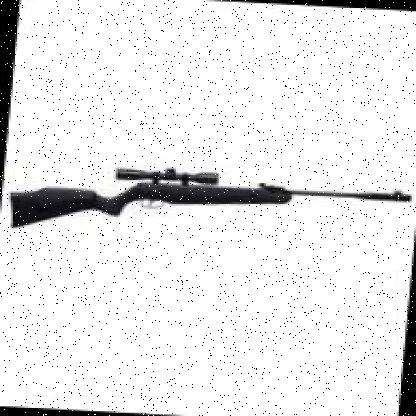rifle: (2, 156, 416, 248)
